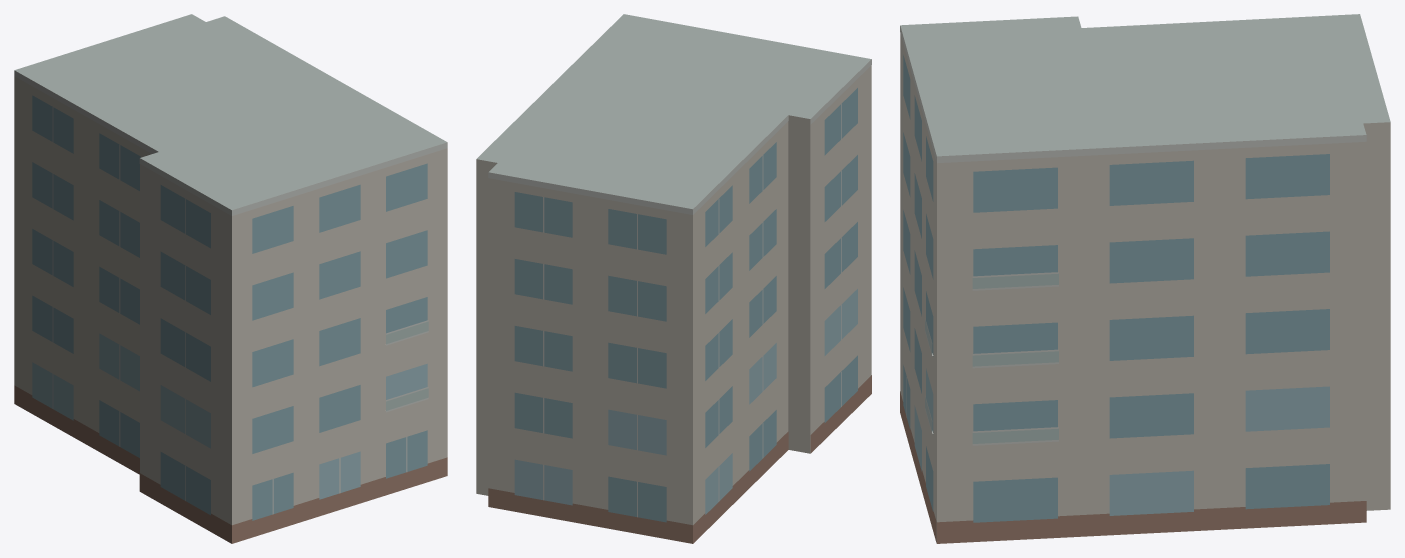
Rendered from survey-upis-32620615.glb.
The picture shows the model from 3 angles, left to right: view 1: azimuth 30°, elevation 25°; view 2: azimuth 150°, elevation 25°; view 3: azimuth 270°, elevation 25°; orthographic projection. The views are drawn at different scales.
Parts seen in each view (by area): view 1: survey-upis-32620615.tmp; view 2: survey-upis-32620615.tmp; view 3: survey-upis-32620615.tmp.
Part boxes in pixels (bbox=[...]): survey-upis-32620615.tmp: bbox=[14, 14, 447, 543]; survey-upis-32620615.tmp: bbox=[476, 14, 871, 543]; survey-upis-32620615.tmp: bbox=[900, 14, 1390, 543].
Bounding box in the file's own units: 10.96 × 13.9 × 15.96.
